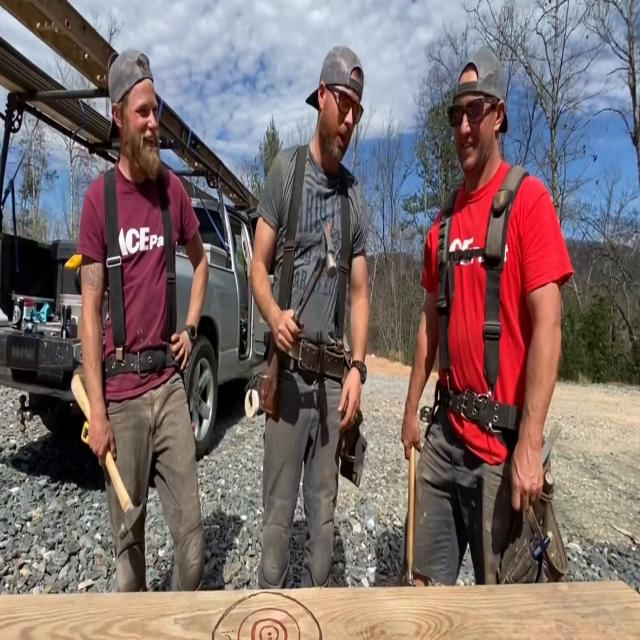hammer: (71, 375, 147, 540), (293, 222, 336, 324)
